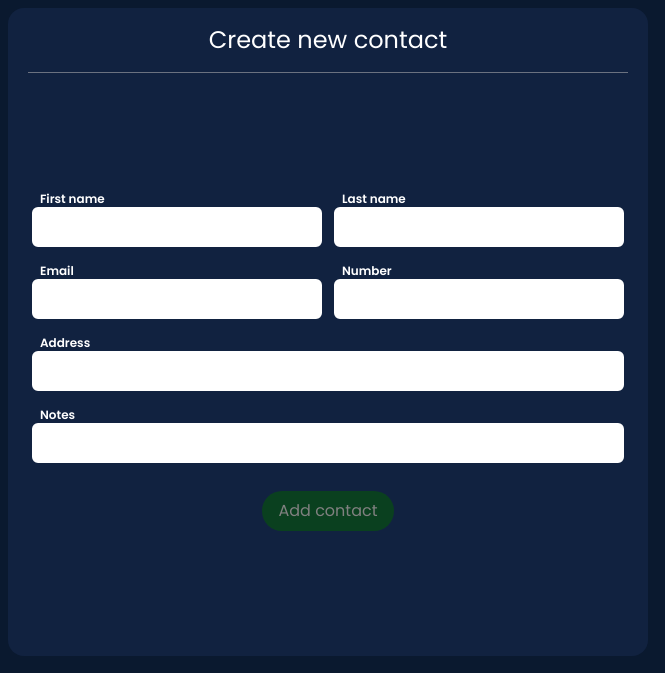
ContactSubmission components › enables the add contact button when the form is filled out
Type "John" into the field labelled "First name".
click(177, 226); type("John")  # box 32,206 -> 322,246
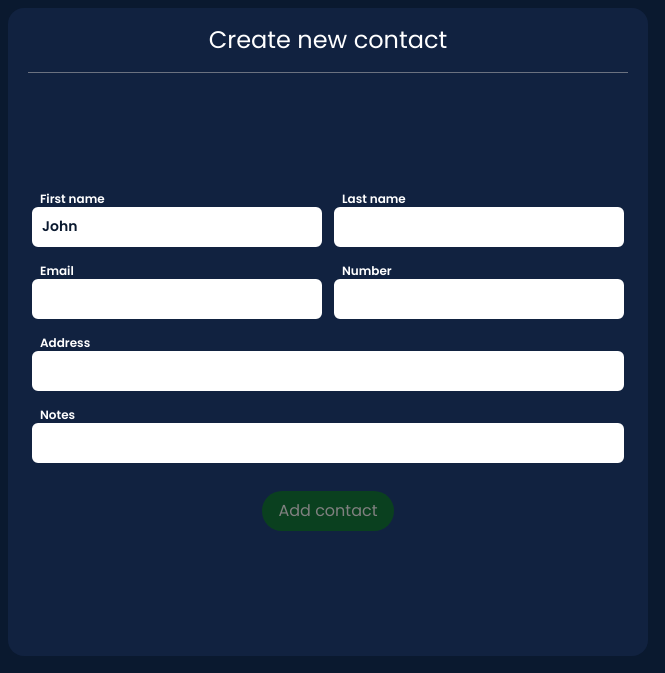
Type "Doe" into the field labelled "Last name".
click(479, 226); type("Doe")  # box 334,206 -> 624,246
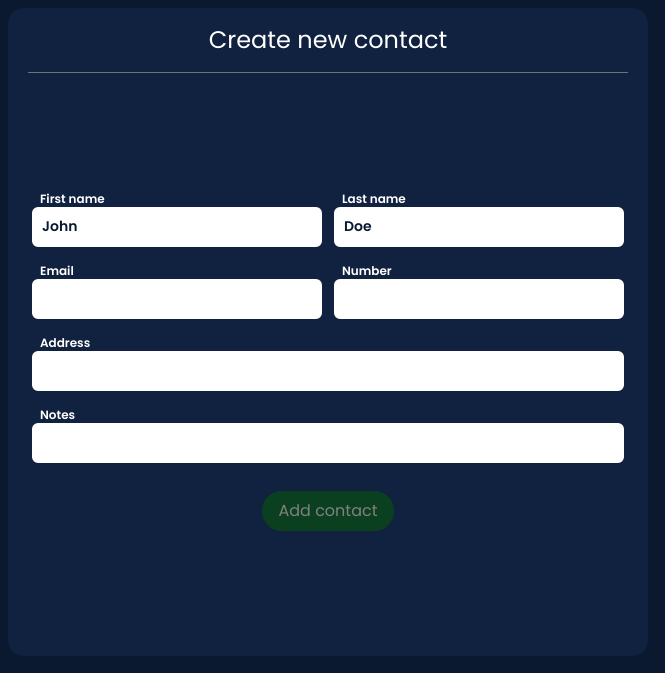
Type "Street" into the field labelled "Address".
click(328, 370); type("Street")  # box 32,350 -> 624,390
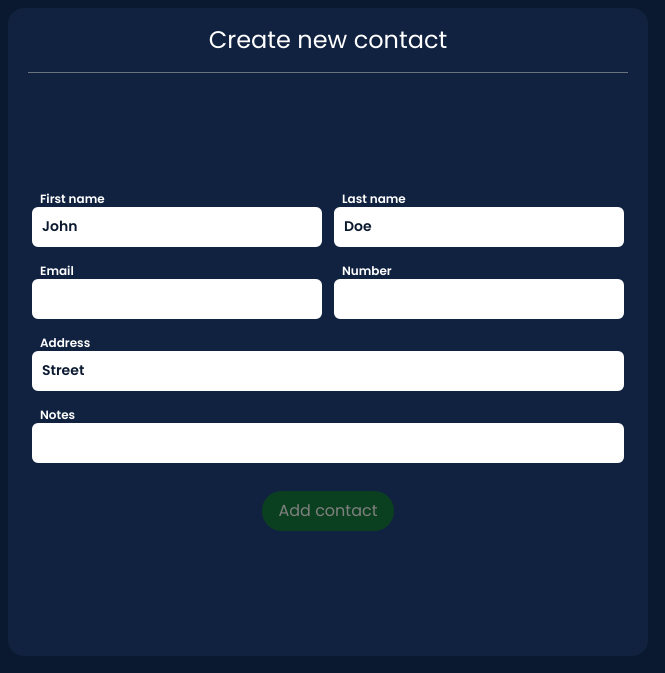
Type "john@example.com" into the field labelled "Email".
click(177, 298); type("john@example.com")  # box 32,278 -> 322,318
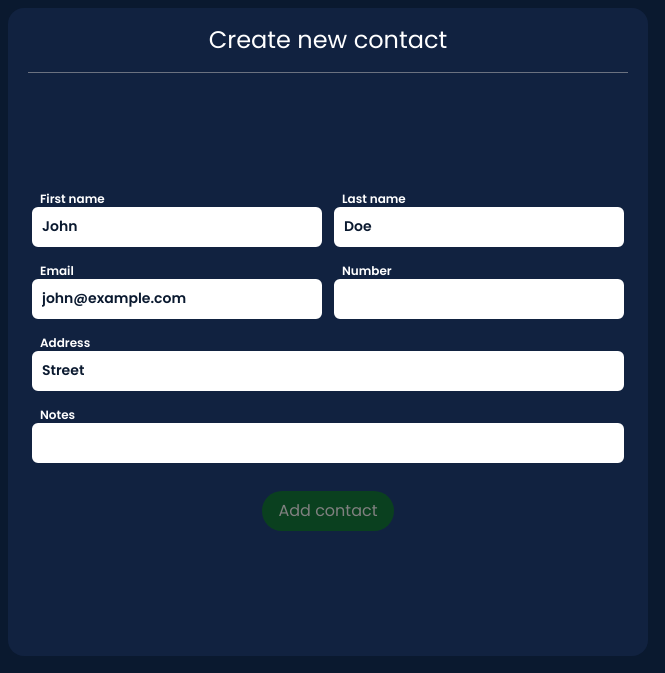
Type "123456789" into the field labelled "Number".
click(479, 298); type("123456789")  # box 334,278 -> 624,318
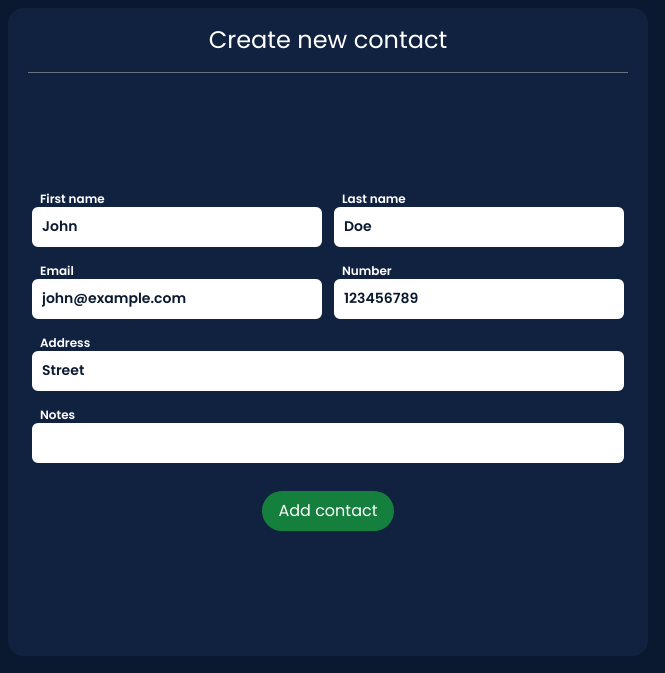
Expected: the button "Add contact" is enabled, 262,490 -> 394,530
